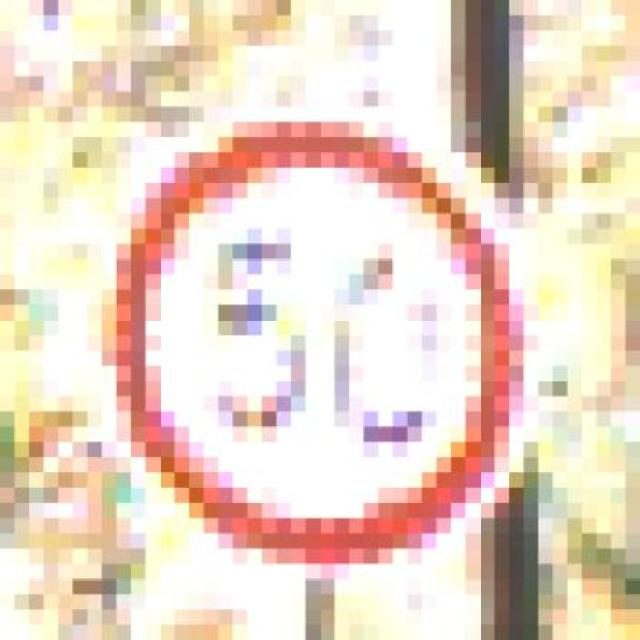50 mph speed limit: (43, 61, 568, 594)
